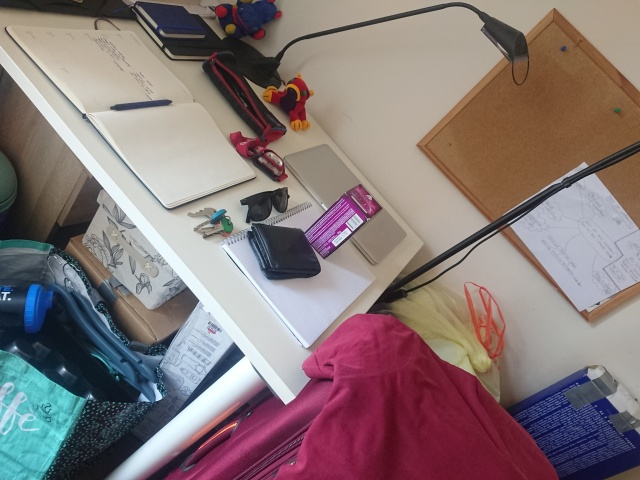Franck Black Currant Tea 60g: (300, 181, 384, 261)
